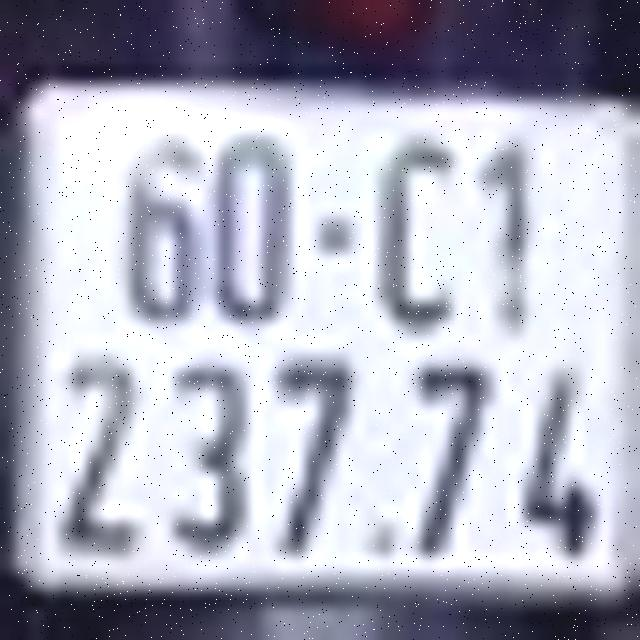0: (210, 128, 294, 326)
1: (477, 136, 534, 336)
2: (59, 352, 142, 555)
3: (167, 354, 250, 553)
4: (521, 362, 602, 562)
6: (124, 128, 202, 326)
7: (267, 353, 353, 558), (408, 357, 492, 558)
C: (373, 135, 462, 330)
